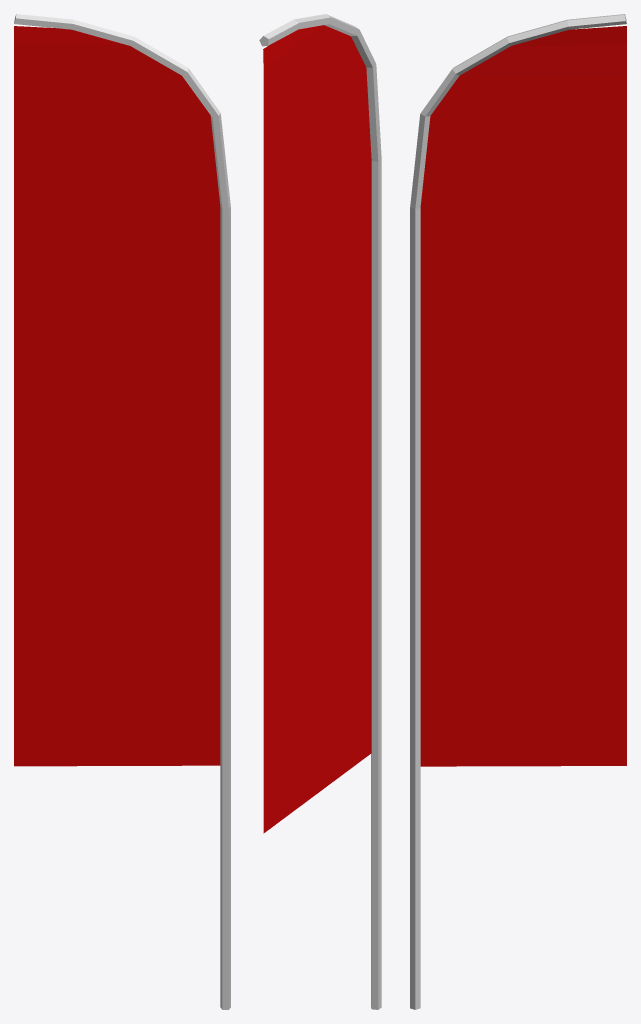
Rendered from Pipe_Billboard.fbx.
3 views of the same model, side by side, from view 1: azimuth 90°, elevation 25°; view 2: azimuth 150°, elevation 25°; view 3: azimuth 270°, elevation 25° (orthographic). The views are drawn at different scales.
Visible parts, largest first — view 1: Pipe_Billboard1; view 2: Pipe_Billboard1; view 3: Pipe_Billboard1.
Boxes of the visible parts, <box> form: Pipe_Billboard1: <box>14,14,230,1009</box>; Pipe_Billboard1: <box>259,14,381,1009</box>; Pipe_Billboard1: <box>410,14,626,1009</box>.
Size of the model in its own units: 9.99 by 1099 by 217.
